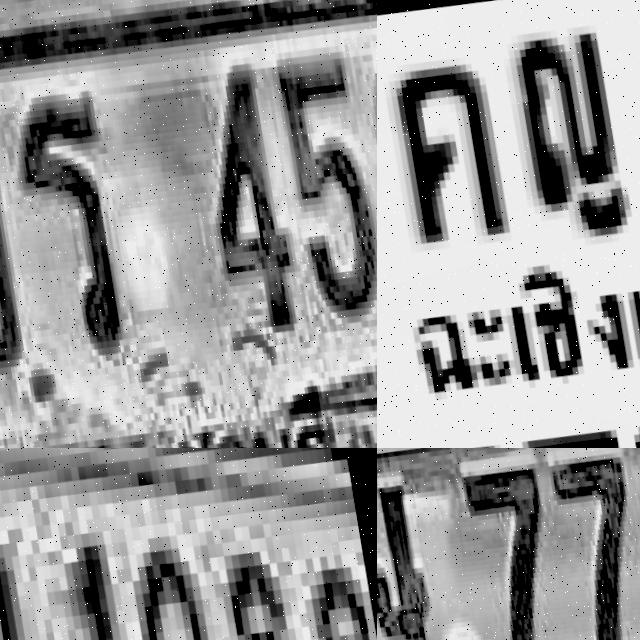license-plate: (0, 0, 377, 448), (377, 0, 640, 448), (0, 448, 377, 640), (377, 448, 640, 640)
